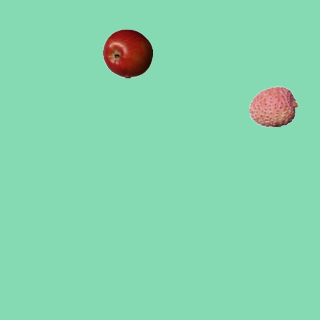Apple Braeburn: (102, 28, 152, 78)
Lychee: (248, 81, 298, 131)
